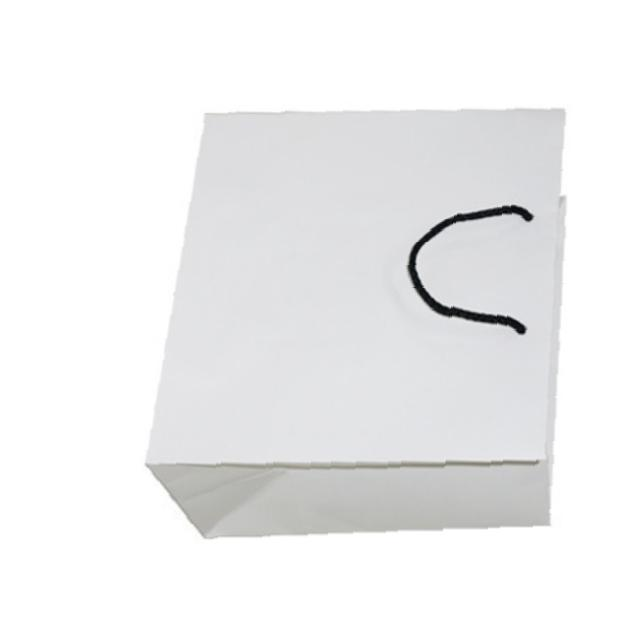biodegradable: (81, 58, 614, 592)
